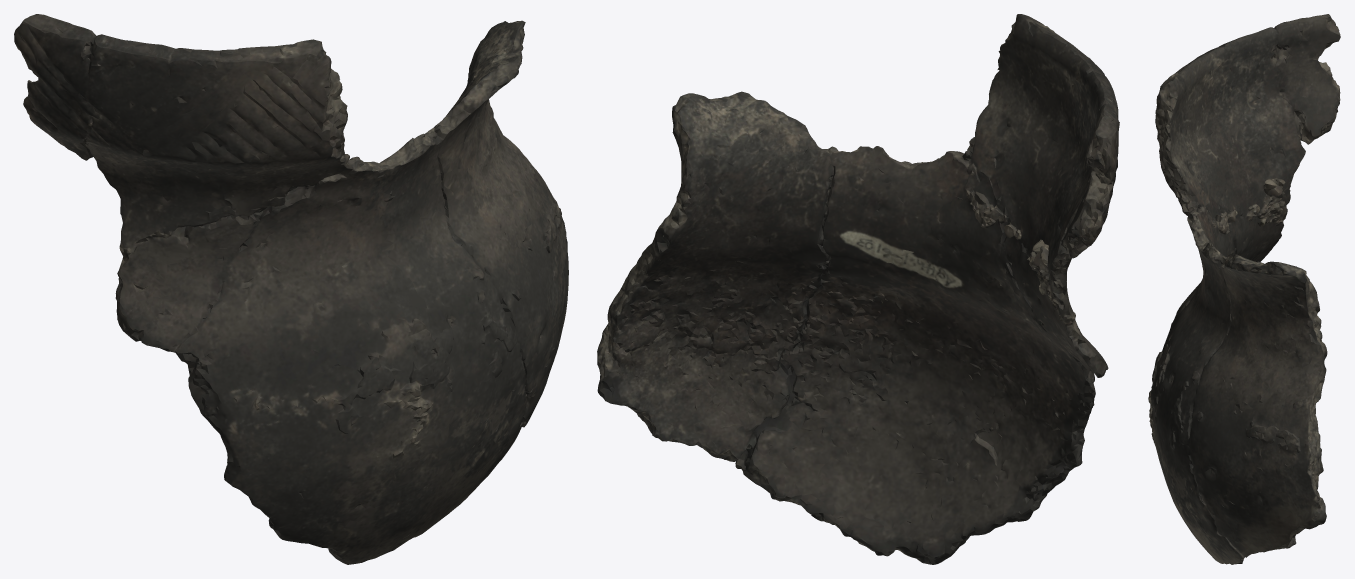
File: half-lawson-pot.gltf
3 renders of one model, left to right at view 1: azimuth 30°, elevation 25°; view 2: azimuth 150°, elevation 25°; view 3: azimuth 270°, elevation 25°, orthographic. The views are drawn at different scales.
Visible parts, largest first — view 1: Lawson Pot; view 2: Lawson Pot; view 3: Lawson Pot.
Part boxes in pixels (box(x1,y1,x2,y2)): Lawson Pot: box(14, 14, 568, 564); Lawson Pot: box(597, 14, 1119, 564); Lawson Pot: box(1148, 14, 1340, 564).
Size of the model in its own units: 145 by 144 by 57.25.
1 material, 1 textured.
